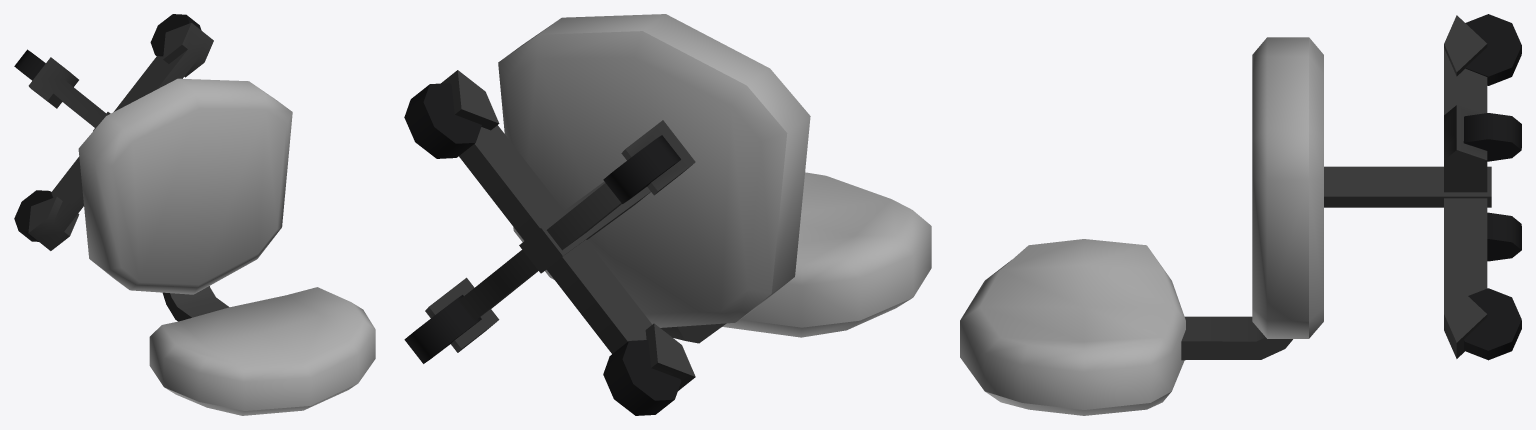
Rendered from chairs.glb.
The picture shows the model from 3 angles, left to right: view 1: azimuth 30°, elevation 25°; view 2: azimuth 150°, elevation 25°; view 3: azimuth 270°, elevation 25°; orthographic projection. The views are drawn at different scales.
Visible parts, largest first — view 1: OfficeChair; view 2: OfficeChair; view 3: OfficeChair.
Part boxes in pixels (left/top/right/bottom): OfficeChair: left=14, top=14, right=375, bottom=415; OfficeChair: left=404, top=14, right=931, bottom=415; OfficeChair: left=960, top=14, right=1521, bottom=415.
Bounding box in the file's own units: 0.5065 × 0.5824 × 0.9441.
Materials: 1 (1 with a texture image).
